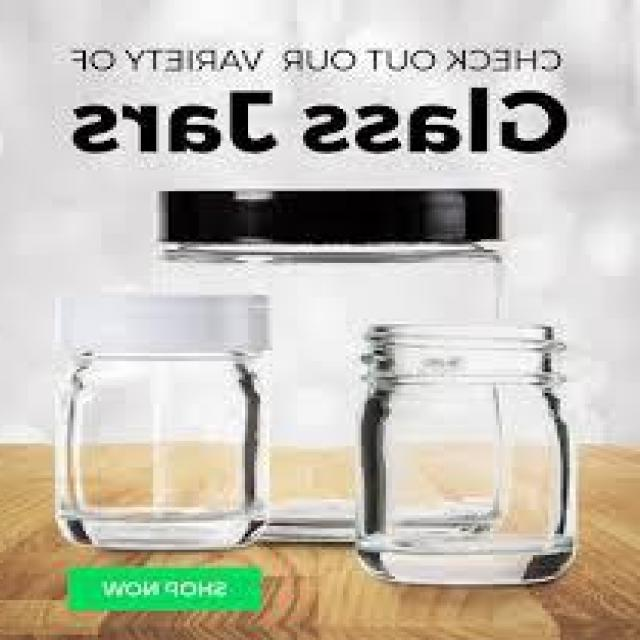glass: (348, 315, 584, 591), (48, 288, 274, 551)
